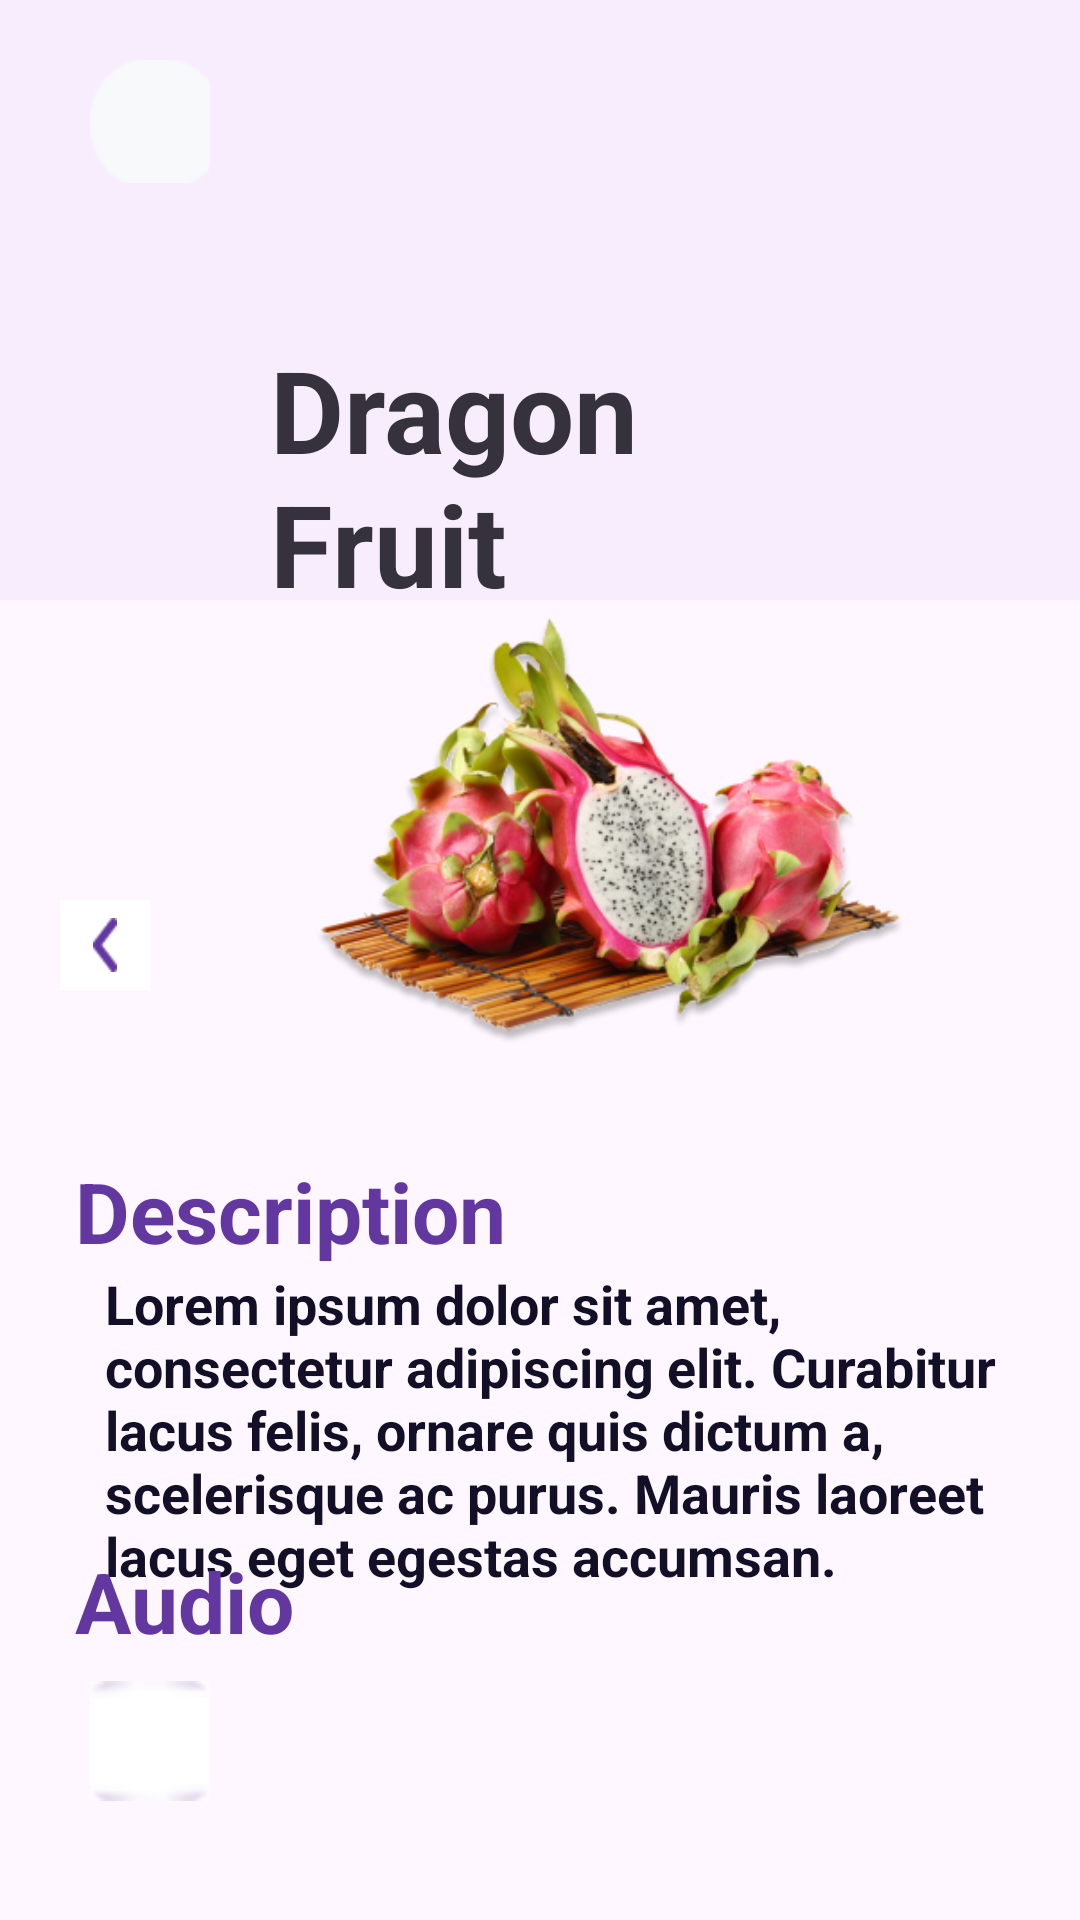

Named icons in this screenshot (1080w x 1920h) and their centers, (x=x, y=y):
leftarrow: (x=105, y=945)
